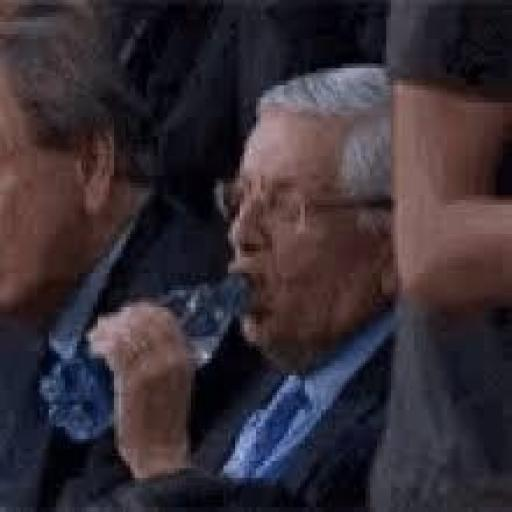drinking: (51, 61, 512, 510)
